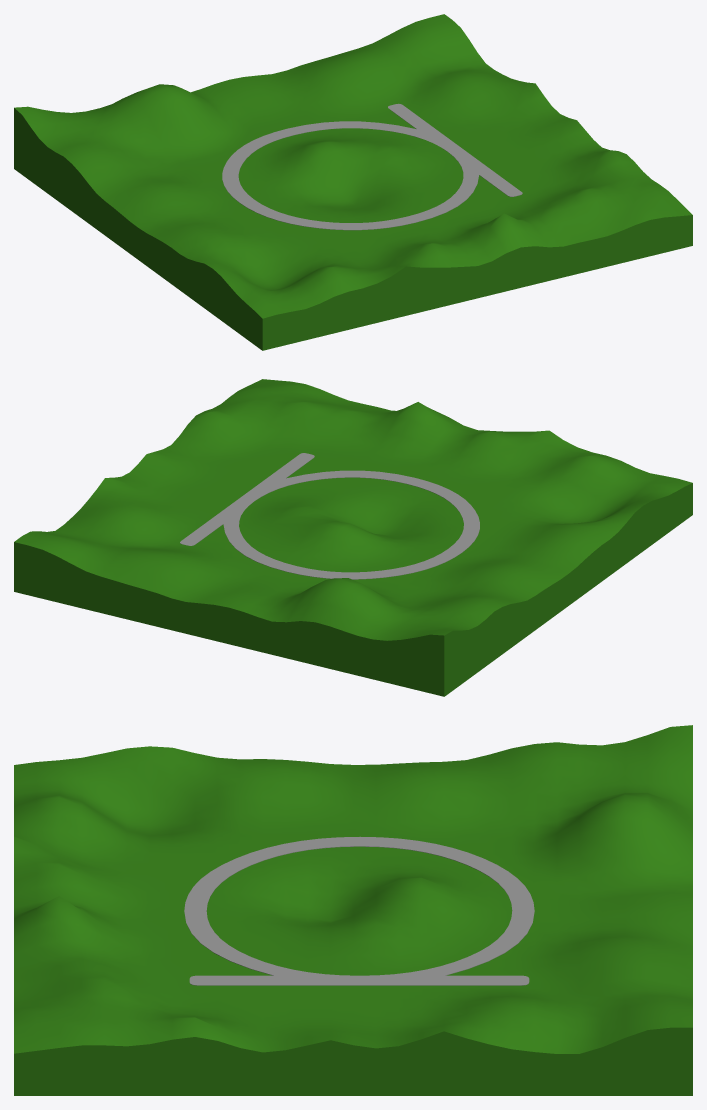
The model's file is TestIsland2.FBX.
3 renders of one model, top to bottom at view 1: azimuth 30°, elevation 25°; view 2: azimuth 150°, elevation 25°; view 3: azimuth 270°, elevation 25°, orthographic. The views are drawn at different scales.
Visible parts, largest first — view 1: Box001, Text001; view 2: Box001, Text001; view 3: Box001, Text001.
Boxes of the visible parts, box(x1,y1,x2,y2) form: Box001: box(14, 14, 692, 350); Text001: box(222, 103, 522, 230); Box001: box(14, 379, 692, 696); Text001: box(180, 453, 479, 579); Box001: box(14, 725, 692, 1095); Text001: box(184, 836, 534, 985).
Size of the model in its own units: 150 by 22.46 by 150.
